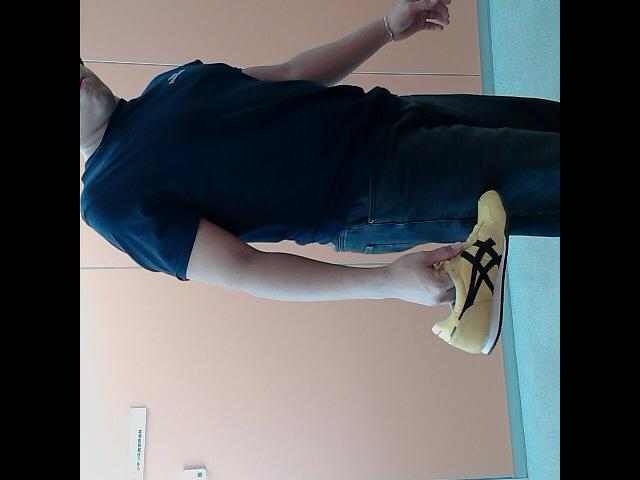Shoes: (422, 189, 519, 356)
